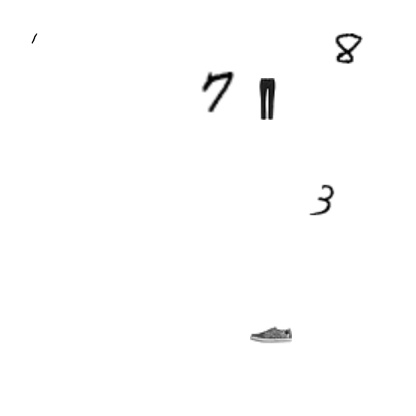1: (27, 31, 41, 45)
3: (304, 179, 346, 221)
7: (190, 58, 246, 114)
8: (325, 26, 367, 68)
Sneaker: (250, 313, 292, 355)
Trouser: (246, 78, 288, 120)
